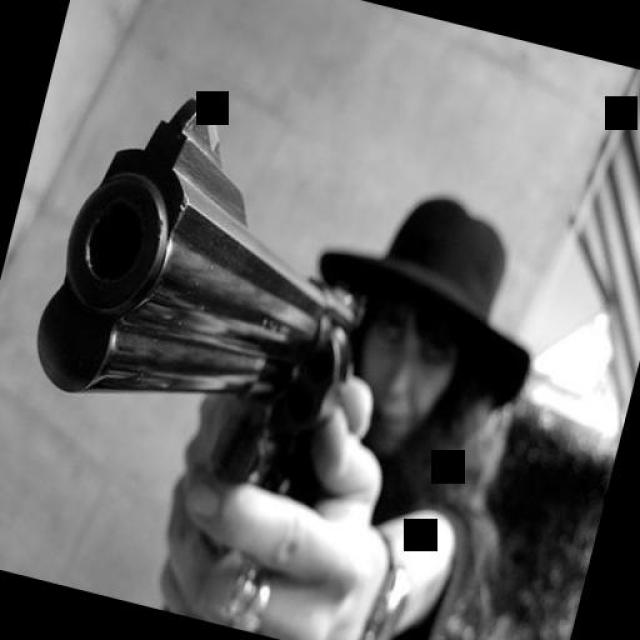gun: (9, 61, 416, 512)
